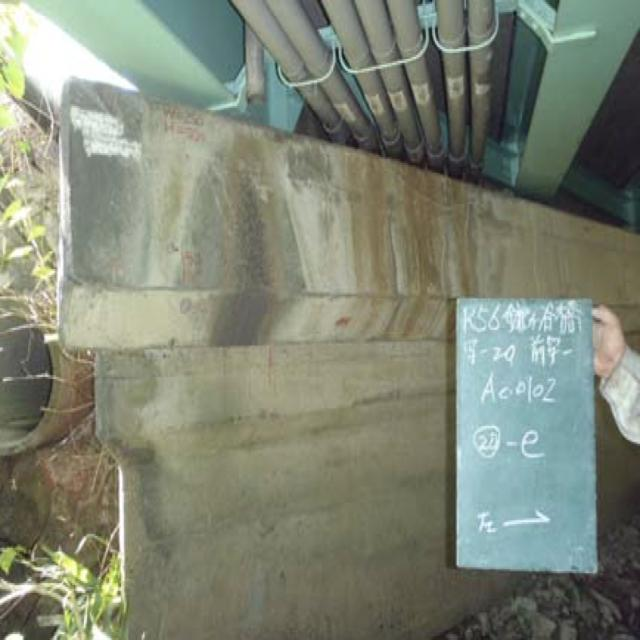freelime: (77, 96, 143, 170)
